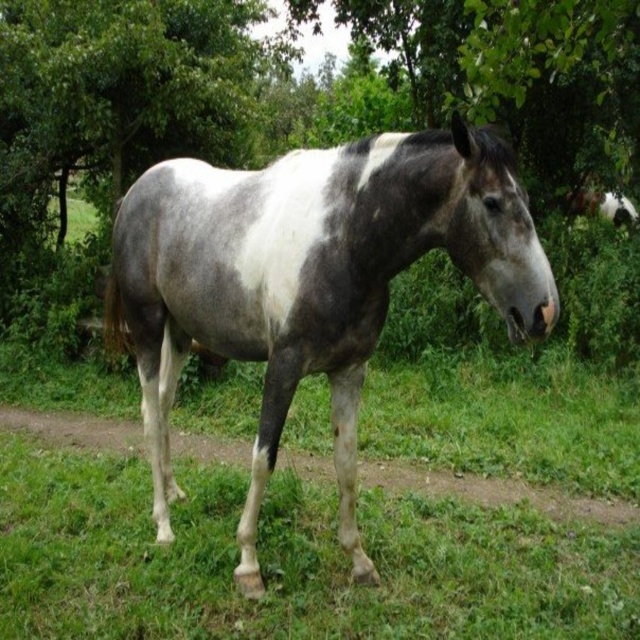Horse: (99, 106, 559, 598)
